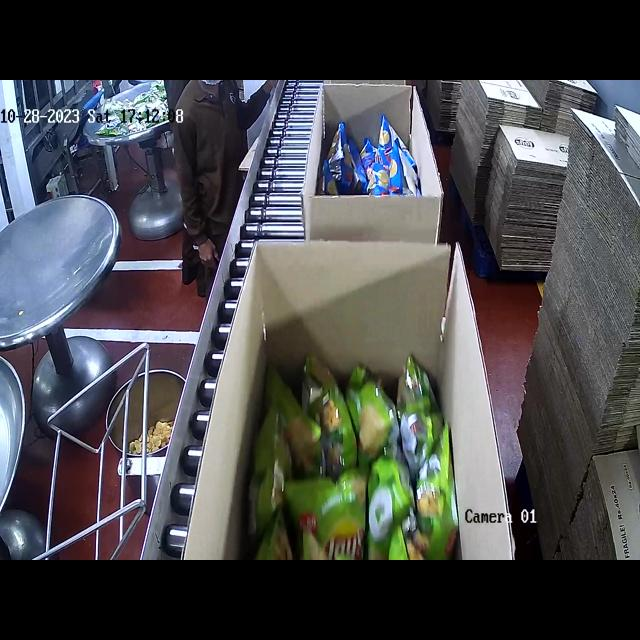paprika: (328, 112, 420, 186)
yogurt: (248, 353, 460, 558)
